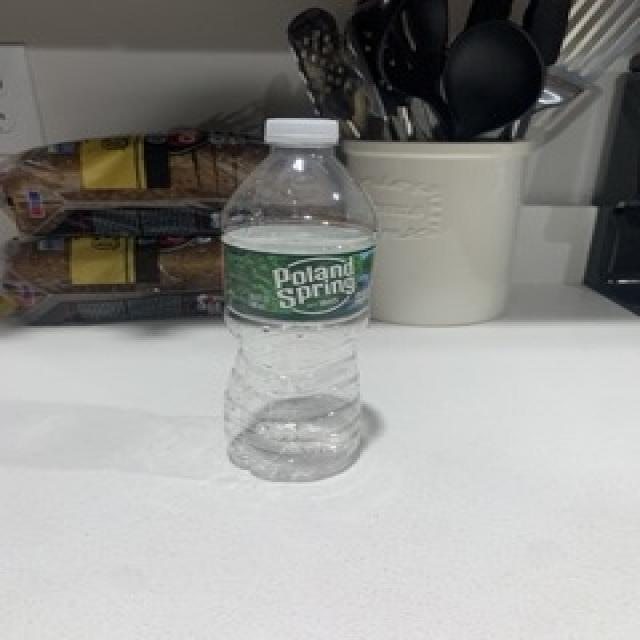water_bottle: (216, 115, 378, 489)
